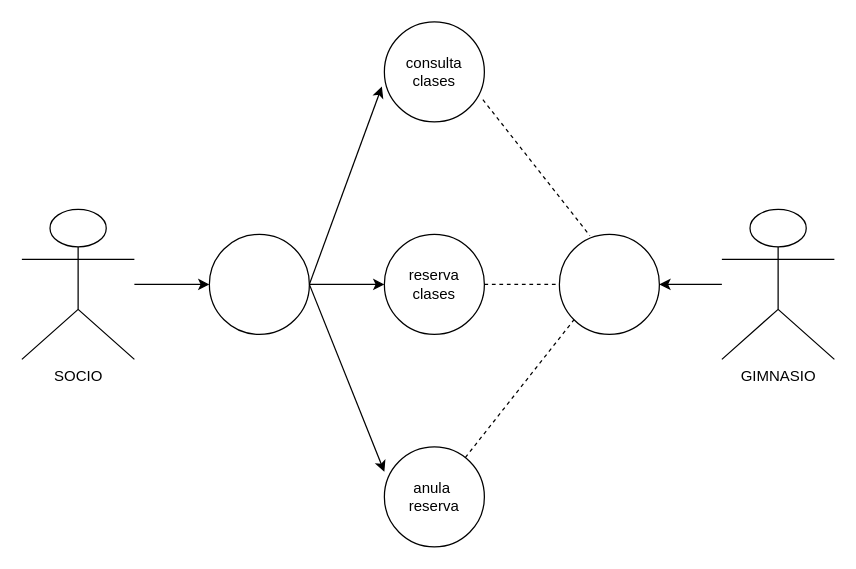
This 856x569 diagram has some shape labels left out. Each missing label, with the box of its shape:
log-in en la aplicación web: (208, 233, 309, 334)
publica clases: (558, 233, 659, 334)
